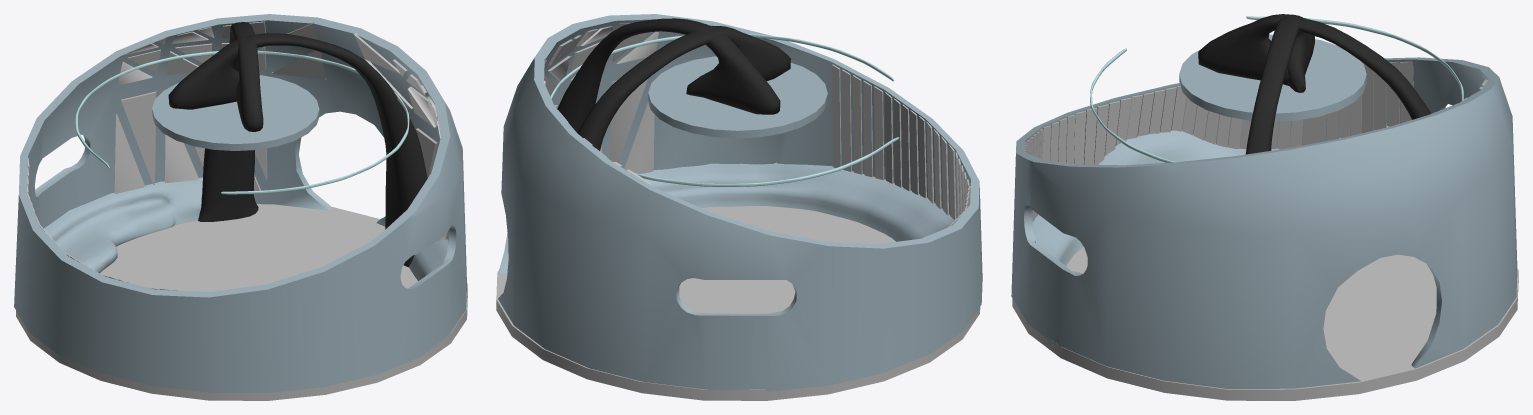
File: showroom.fbx
3 views of the same model, side by side, from view 1: azimuth 30°, elevation 25°; view 2: azimuth 150°, elevation 25°; view 3: azimuth 270°, elevation 25° (orthographic). The views are drawn at different scales.
Visible parts, largest first — view 1: showroomwalls, showroomfloor, panels, Dome_ArchLight.002; view 2: showroomwalls, panels, showroomfloor, Dome_ArchLight.002; view 3: showroomwalls, showroomfloor, panels, Dome_ArchLight.002.
Part boxes in pixels (bbox=[...]): showroomwalls: bbox=[14, 14, 466, 392]; showroomfloor: bbox=[16, 204, 467, 400]; panels: bbox=[27, 21, 448, 291]; Dome_ArchLight.002: bbox=[75, 51, 409, 194]; showroomwalls: bbox=[498, 14, 982, 391]; panels: bbox=[544, 23, 970, 238]; showroomfloor: bbox=[496, 206, 980, 400]; Dome_ArchLight.002: bbox=[550, 34, 899, 186]; showroomwalls: bbox=[1011, 14, 1517, 388]; showroomfloor: bbox=[1012, 247, 1518, 400]; panels: bbox=[1025, 61, 1487, 221]; Dome_ArchLight.002: bbox=[1090, 16, 1463, 162].
Bounding box in the file's own units: 45.27 × 28.14 × 45.22.
